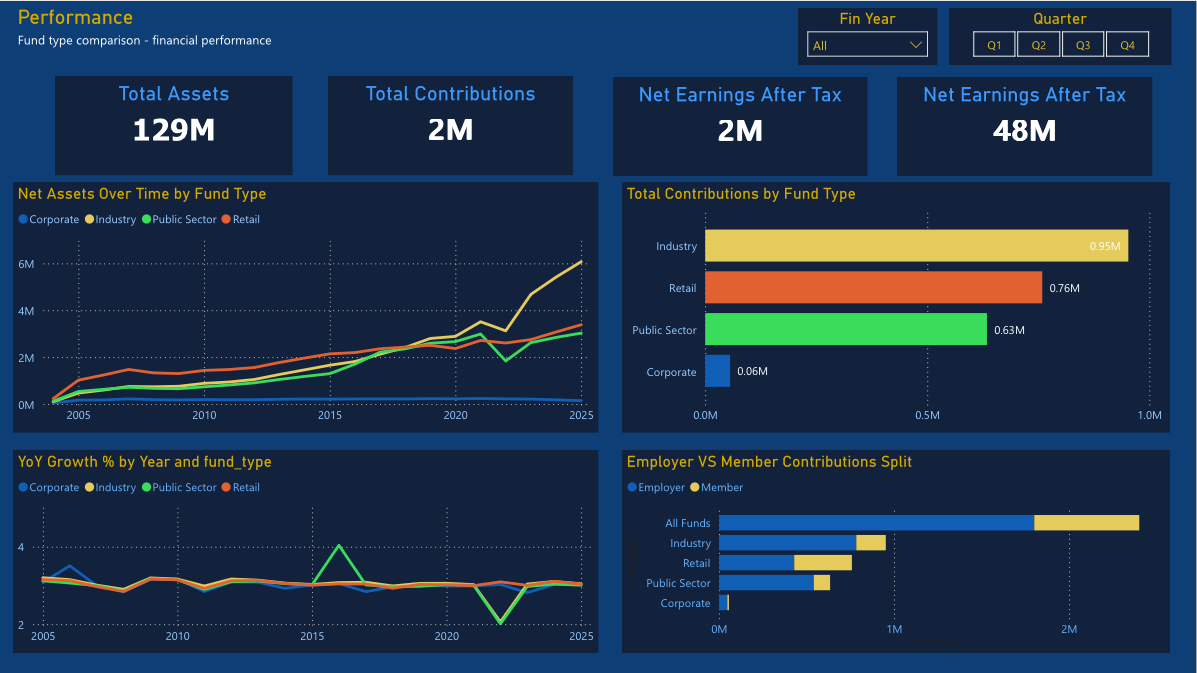

The dashboard page shown, as its layout file describes it:
{"tool":"powerbi","page":{"name":"Performance","canvas":[1280,720],"ordinal":0},"visuals":[{"type":"cardVisual","title":"Total Assets","fields":{"Data":["master_all.Total Value"]},"box":[60,80,254.4,105.6],"z":0},{"type":"cardVisual","title":"Total Contributions","fields":{"Data":["master_all.Total Value"]},"box":[352.2,80,262.2,105.6],"z":1000},{"type":"cardVisual","title":"Net Earnings After Tax","fields":{"Data":["master_all.Total Value"]},"box":[656.7,81.1,272.2,105.6],"z":2000},{"type":"cardVisual","title":"Net Earnings After Tax","fields":{"Data":["master_all.Rolling 4Q Avg"]},"box":[960,81.1,273.3,105.6],"z":3000},{"type":"slicer","title":"Fin Year","fields":{"Values":["master_all.fin_year"]},"box":[854.4,7.8,148.9,61.1],"z":4000},{"type":"slicer","title":"Quarter","fields":{"Values":["master_all.quarter_label"]},"box":[1015.6,7.8,237.8,61.1],"z":5000},{"type":"lineChart","title":"Net Assets Over Time by Fund Type","fields":{"Category":["master_all.date.Variation.Date Hierarchy.Year","master_all.date.Variation.Date Hierarchy.Quarter","master_all.date.Variation.Date Hierarchy.Month","master_all.date.Variation.Date Hierarchy.Day"],"Y":["master_all.Total Value"],"Series":["master_all.fund_type"]},"box":[14.4,193.3,625.6,267.8],"z":6000},{"type":"barChart","title":"Total Contributions by Fund Type","fields":{"Y":["master_all.Total Value"],"Category":["master_all.fund_type"]},"box":[666.7,193.3,585.6,267.8],"z":7000},{"type":"lineChart","fields":{"Y":["master_all.YoY Growth %"],"Category":["master_all.date.Variation.Date Hierarchy.Year"],"Series":["master_all.fund_type"]},"box":[14.4,480,625.6,216.7],"z":8000},{"type":"barChart","title":"Employer VS Member Contributions Split","fields":{"Category":["master_all.fund_type"],"Y":["master_all.Total Value"],"Series":["master_all.metric"]},"box":[666.7,480,585.6,216.7],"z":9000},{"type":"textbox","title":"Performance","box":[14.4,7.8,300,72.2],"z":10000},{"type":"shape","box":[0,68.9,1280,13.3],"z":11000}]}

Visuals, with their boxes in screenshot pixels (x1, y1, x2, y2), scaled from the page's 1280x720 canvas onto the 1197x673 screenshot:
"Total Assets" cardVisual: BBox(56, 75, 294, 173)
"Total Contributions" cardVisual: BBox(329, 75, 575, 173)
"Net Earnings After Tax" cardVisual: BBox(614, 76, 869, 175)
"Net Earnings After Tax" cardVisual: BBox(898, 76, 1153, 175)
"Fin Year" slicer: BBox(799, 7, 938, 64)
"Quarter" slicer: BBox(950, 7, 1172, 64)
"Net Assets Over Time by Fund Type" lineChart: BBox(13, 181, 598, 431)
"Total Contributions by Fund Type" barChart: BBox(623, 181, 1171, 431)
lineChart - master_all.YoY Growth % x master_all.date.Variation.Date Hierarchy.Year: BBox(13, 449, 598, 651)
"Employer VS Member Contributions Split" barChart: BBox(623, 449, 1171, 651)
"Performance" textbox: BBox(13, 7, 294, 75)
shape: BBox(0, 64, 1196, 77)
